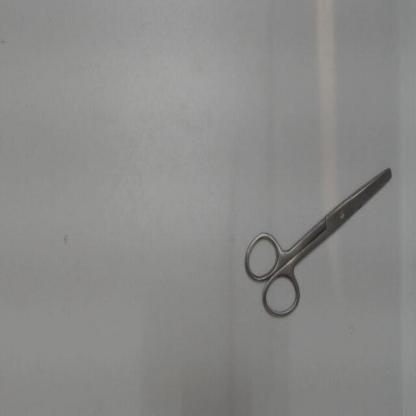Dressing Scissors: (236, 158, 402, 326)
